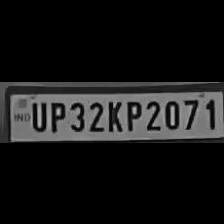0: (160, 97, 180, 129)
1: (200, 96, 218, 128)
2: (142, 96, 162, 130), (86, 97, 104, 130)
3: (66, 97, 86, 130)
7: (182, 96, 198, 130)
K: (104, 97, 124, 130)
P: (46, 98, 66, 132), (122, 97, 142, 131)
U: (27, 97, 46, 130)
